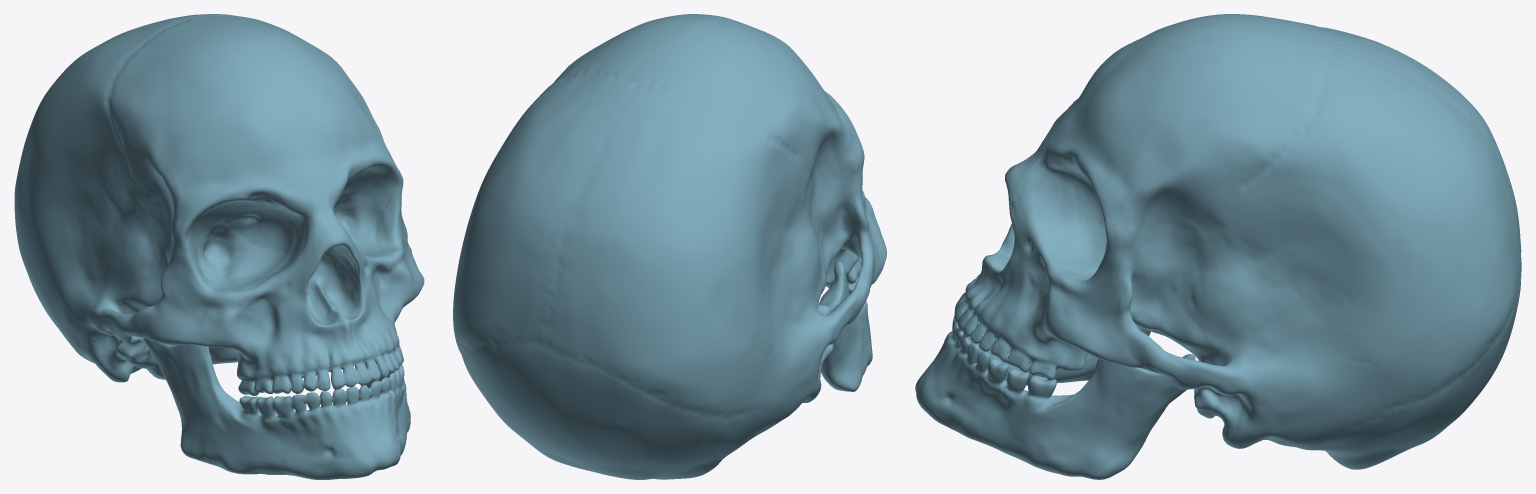
File: scattering-skull.glb
3 views of the same model, side by side, from view 1: azimuth 30°, elevation 25°; view 2: azimuth 150°, elevation 25°; view 3: azimuth 270°, elevation 25° (orthographic). The views are drawn at different scales.
Visible parts, largest first — view 1: cranium, mandible; view 2: cranium, mandible; view 3: cranium, mandible.
Part boxes in pixels (box(x1,y1,x2,y2)): cranium: box(14, 14, 424, 399); mandible: box(117, 330, 410, 479); cranium: box(453, 14, 886, 479); mandible: box(818, 261, 872, 391); cranium: box(954, 14, 1521, 469); mandible: box(915, 318, 1185, 479).
Size of the model in its own units: 0.2042 by 0.2528 by 0.3394.
